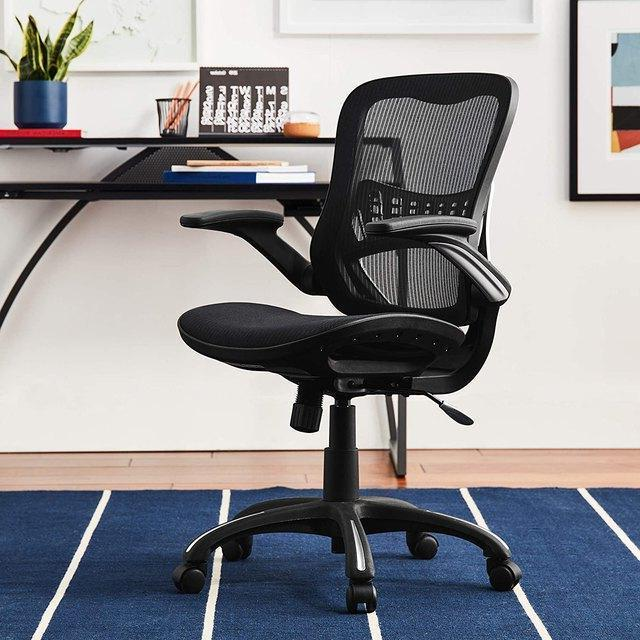chair: (156, 61, 555, 625)
